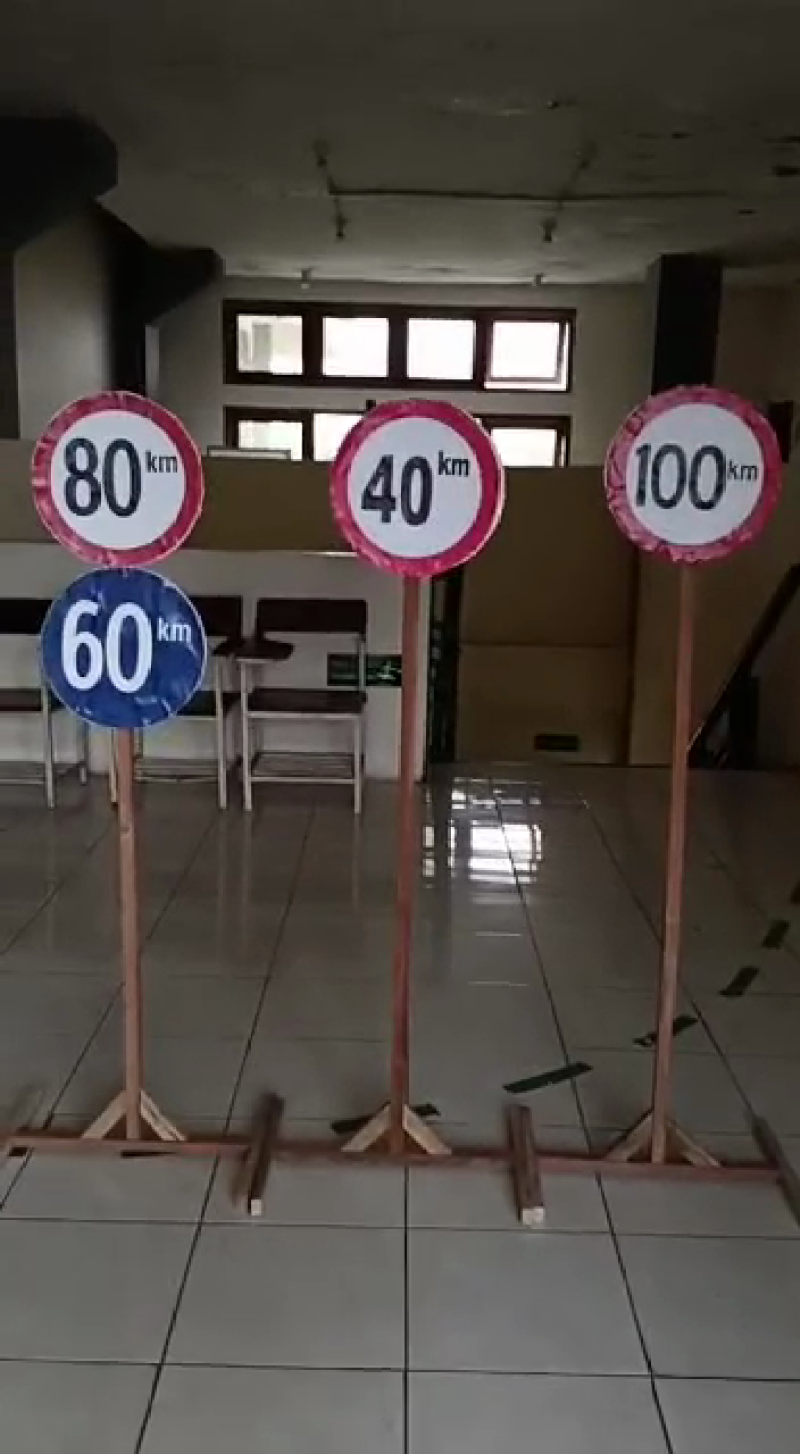batas maksimal 100kmperjam: (311, 392, 509, 579), (596, 368, 785, 559)
batas maksimal 80kmperjam minimal 60kmperjam: (24, 383, 218, 729)
